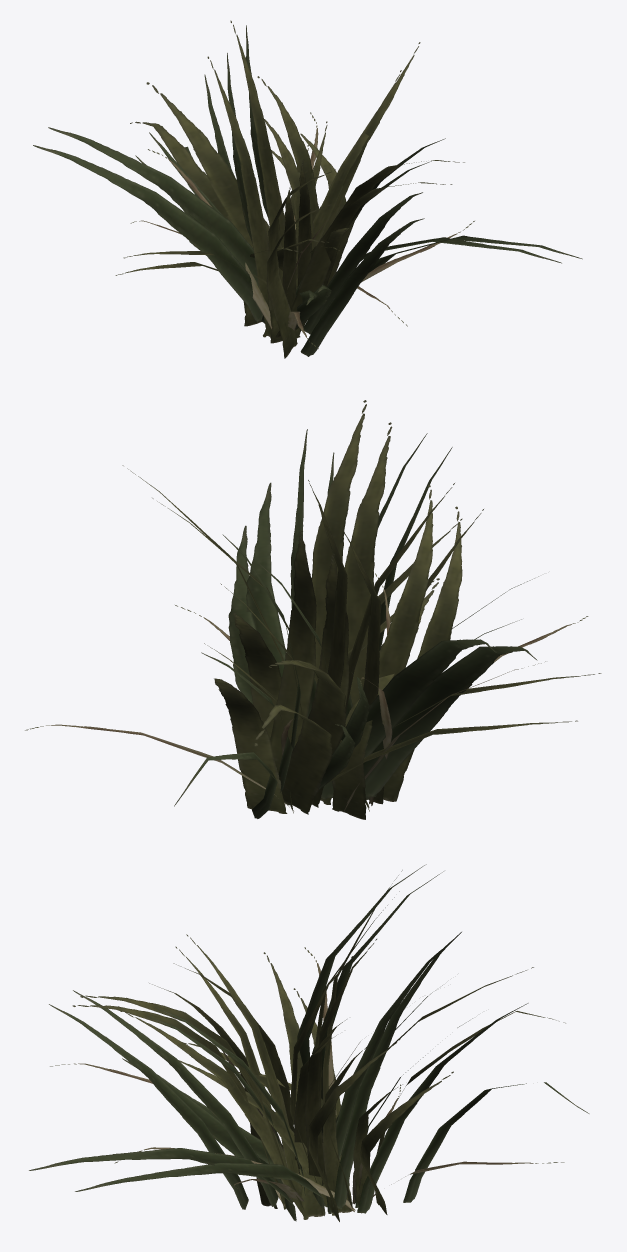
File: mg_9_plant_4.fbx
The picture shows the model from 3 angles, top to bottom: view 1: azimuth 30°, elevation 25°; view 2: azimuth 150°, elevation 25°; view 3: azimuth 270°, elevation 25°; orthographic projection. The views are drawn at different scales.
Parts seen in each view (by area): view 1: mg_9_plant_4; view 2: mg_9_plant_4; view 3: mg_9_plant_4.
Part boxes in pixels (x1,y1,x2,y2): mg_9_plant_4: (33,20,582,358); mg_9_plant_4: (25,400,601,819); mg_9_plant_4: (29,864,589,1221).
Size of the model in its own units: 177 by 117 by 181.
